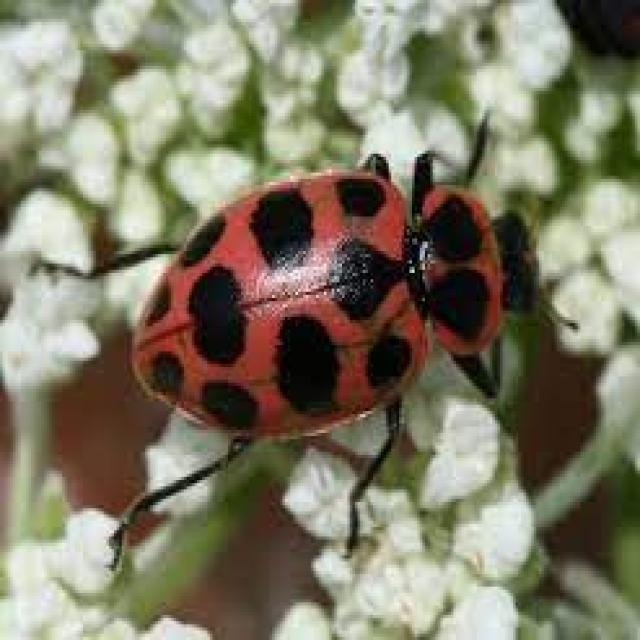bug: (25, 100, 584, 570)
